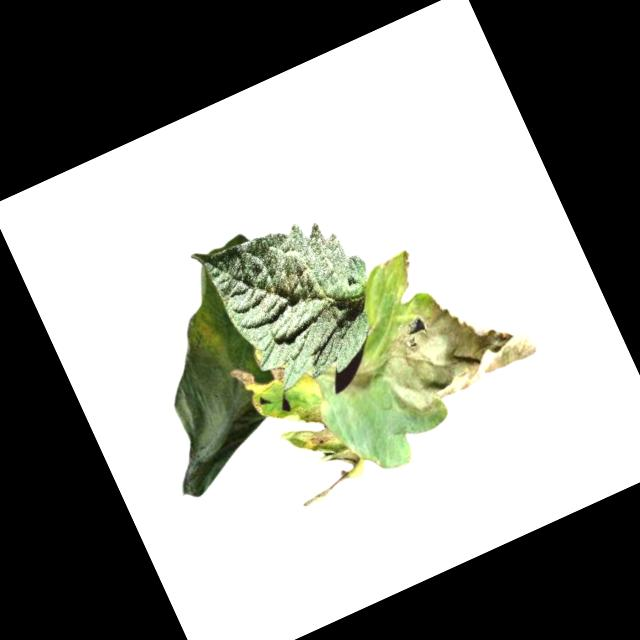Late_blight: (98, 255, 306, 504), (363, 265, 541, 422), (267, 393, 369, 511), (375, 247, 423, 298), (228, 362, 270, 420), (331, 358, 381, 403), (269, 365, 290, 388)
healthy: (188, 190, 402, 409)
